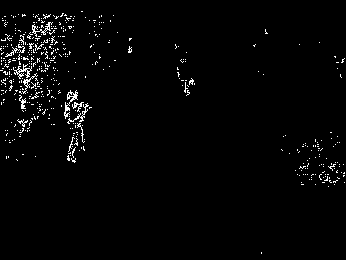person: (63, 90, 92, 163)
